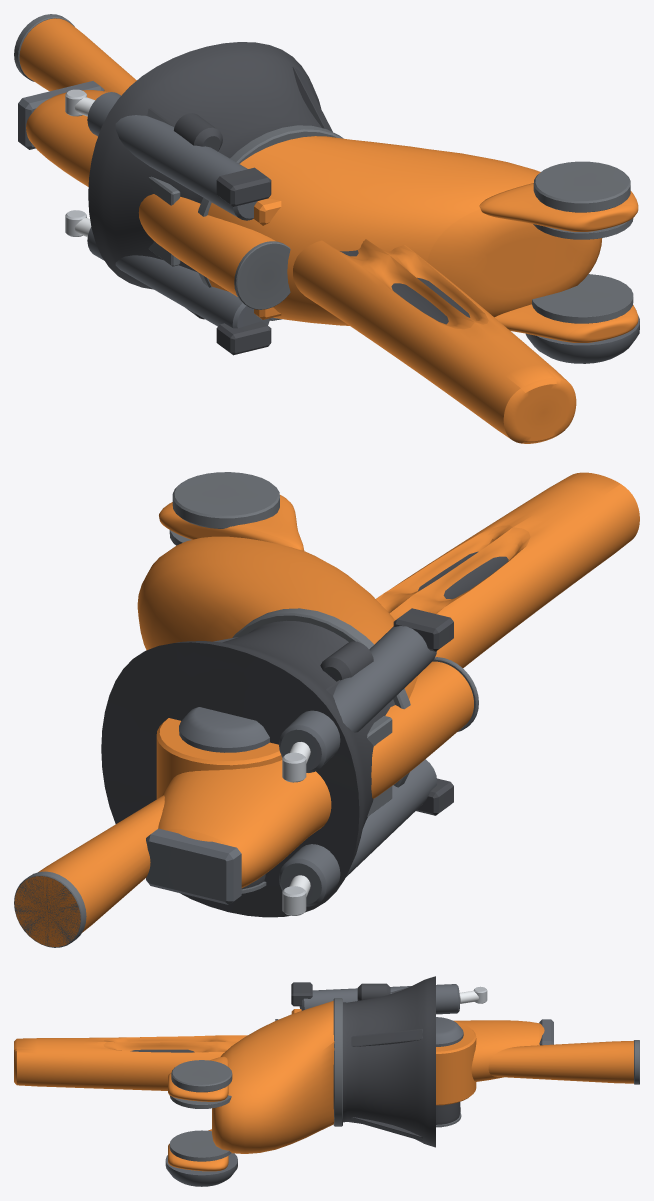
Rendered from robot.glb.
3 views of the same model, one above another, from view 1: azimuth 30°, elevation 25°; view 2: azimuth 150°, elevation 25°; view 3: azimuth 270°, elevation 25° (orthographic). The views are drawn at different scales.
Visible parts, largest first — view 1: A1, A2, ROOT, A3, A4; view 2: A2, ROOT, A3, A1, A4; view 3: A1, A2, ROOT, A4, A3, A5.
Boxes of the visible parts, x1=… form: A1: x1=208, y1=136, x2=639, y2=363; A2: x1=65, y1=89, x2=576, y2=443; ROOT: x1=88, y1=42, x2=343, y2=320; A3: x1=18, y1=81, x2=290, y2=309; A4: x1=14, y1=14, x2=136, y2=94; A2: x1=156, y1=472, x2=639, y2=915; ROOT: x1=101, y1=608, x2=410, y2=917; A3: x1=146, y1=657, x2=478, y2=904; A1: x1=137, y1=472, x2=453, y2=815; A4: x1=14, y1=795, x2=164, y2=947; A1: x1=165, y1=982, x2=334, y2=1186; A2: x1=14, y1=983, x2=487, y2=1105; ROOT: x1=333, y1=976, x2=435, y2=1147; A4: x1=488, y1=1040, x2=639, y2=1084; A3: x1=275, y1=1017, x2=553, y2=1081; A5: x1=436, y1=1102, x2=461, y2=1127.
Size of the model in its own units: 0.9494 by 0.607 by 2.3.
